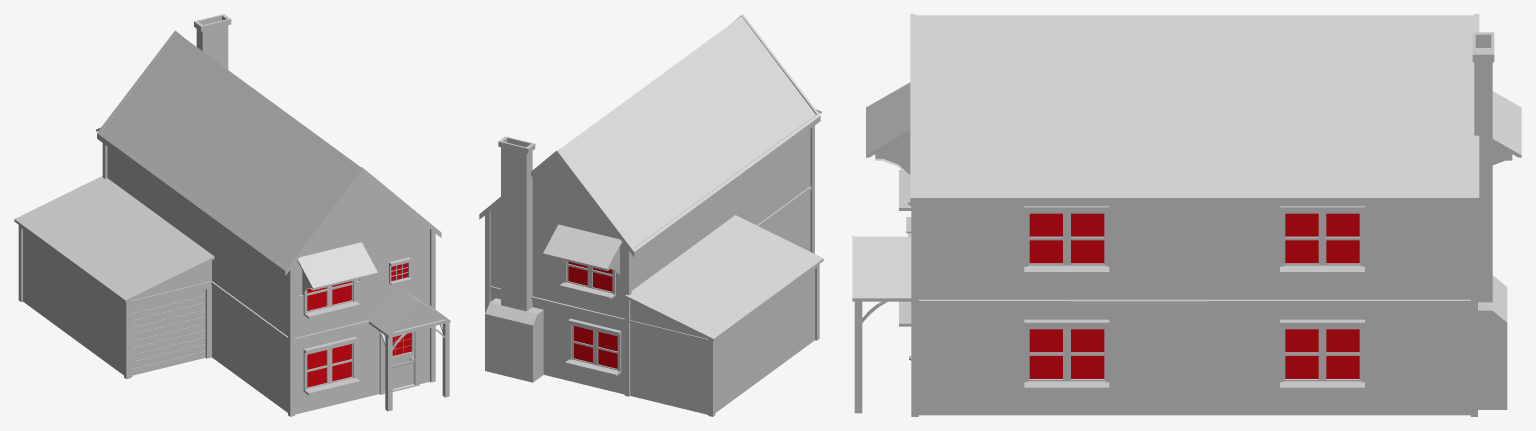
Rendered from SM_ordinary_houses_04.glb.
3 views of the same model, side by side, from view 1: azimuth 30°, elevation 25°; view 2: azimuth 150°, elevation 25°; view 3: azimuth 270°, elevation 25° (orthographic). The views are drawn at different scales.
Parts seen in each view (by area): view 1: ordinary_houses_04; view 2: ordinary_houses_04; view 3: ordinary_houses_04.
Part boxes in pixels (x1,y1,x2,y2): ordinary_houses_04: [14, 14, 450, 416]; ordinary_houses_04: [479, 14, 823, 416]; ordinary_houses_04: [852, 14, 1521, 416].
Bounding box in the file's own units: 10 × 9.22 × 16.
